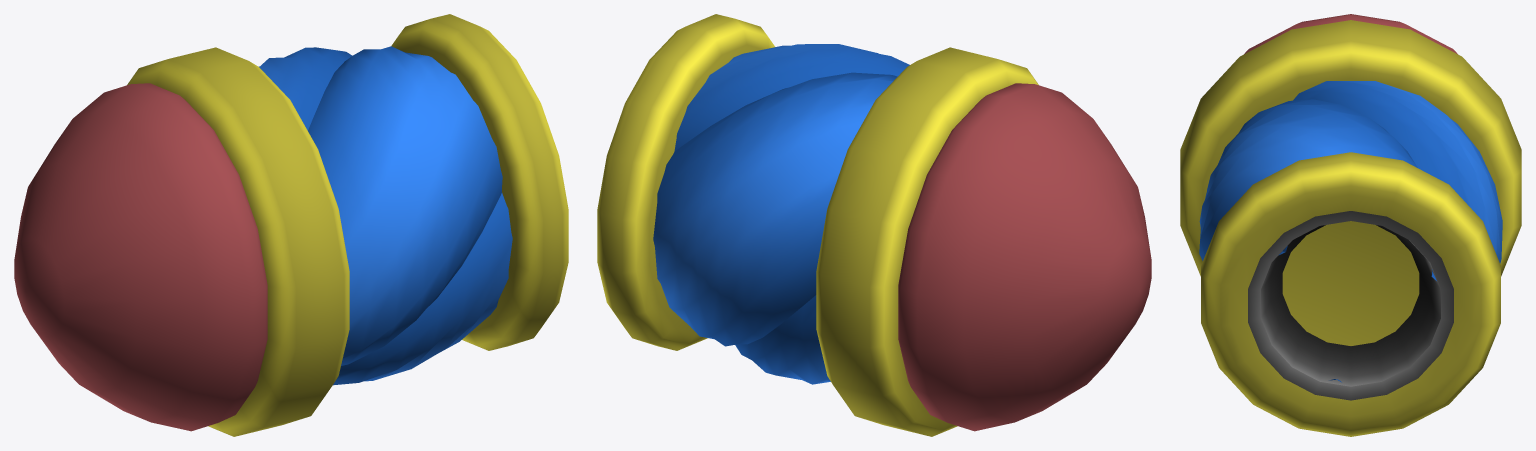
The model's file is Rocket2.fbx.
The picture shows the model from 3 angles, left to right: view 1: azimuth 30°, elevation 25°; view 2: azimuth 150°, elevation 25°; view 3: azimuth 270°, elevation 25°; orthographic projection. The views are drawn at different scales.
Visible parts, largest first — view 1: Rocket2; view 2: Rocket2; view 3: Rocket2.
Part boxes in pixels (<box>): Rocket2: <box>14,14,568,436</box>; Rocket2: <box>597,14,1151,436</box>; Rocket2: <box>1180,14,1521,436</box>.
Bounding box in the file's own units: 698 × 498 × 491.
